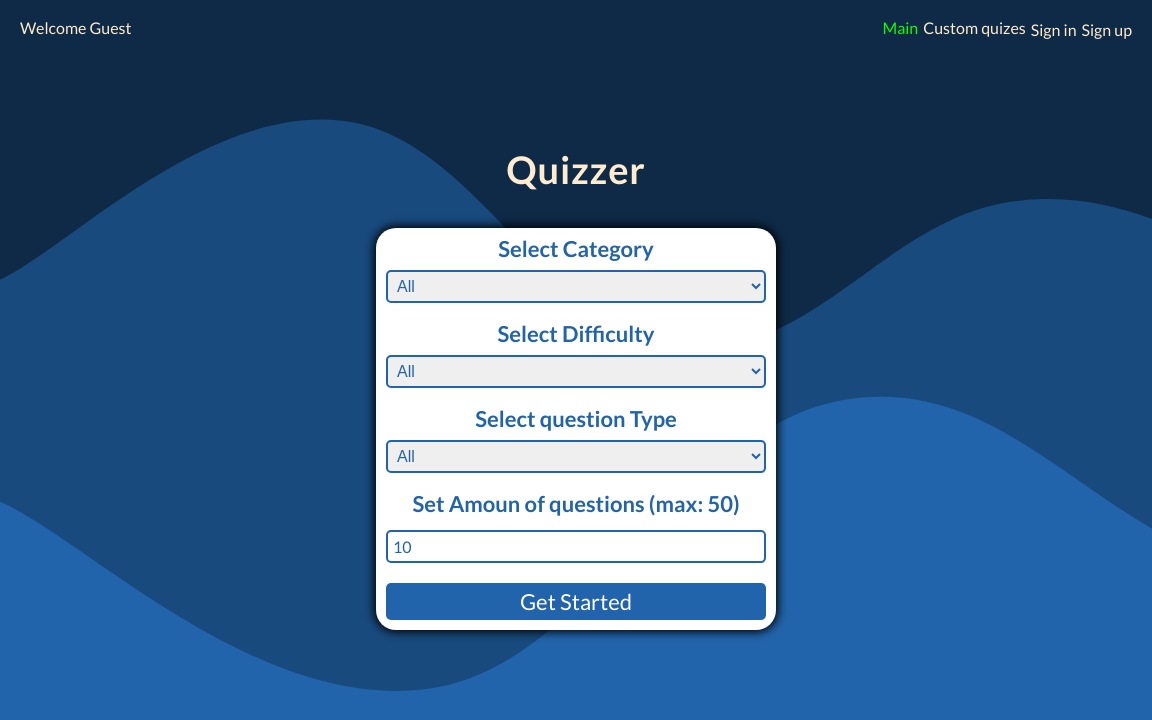
Scenario: NavBar tests › shoul open sign up modal
Click the button with test id "signup-link".
click(1107, 30)  # box x1=1082 y1=20 x2=1132 y2=39
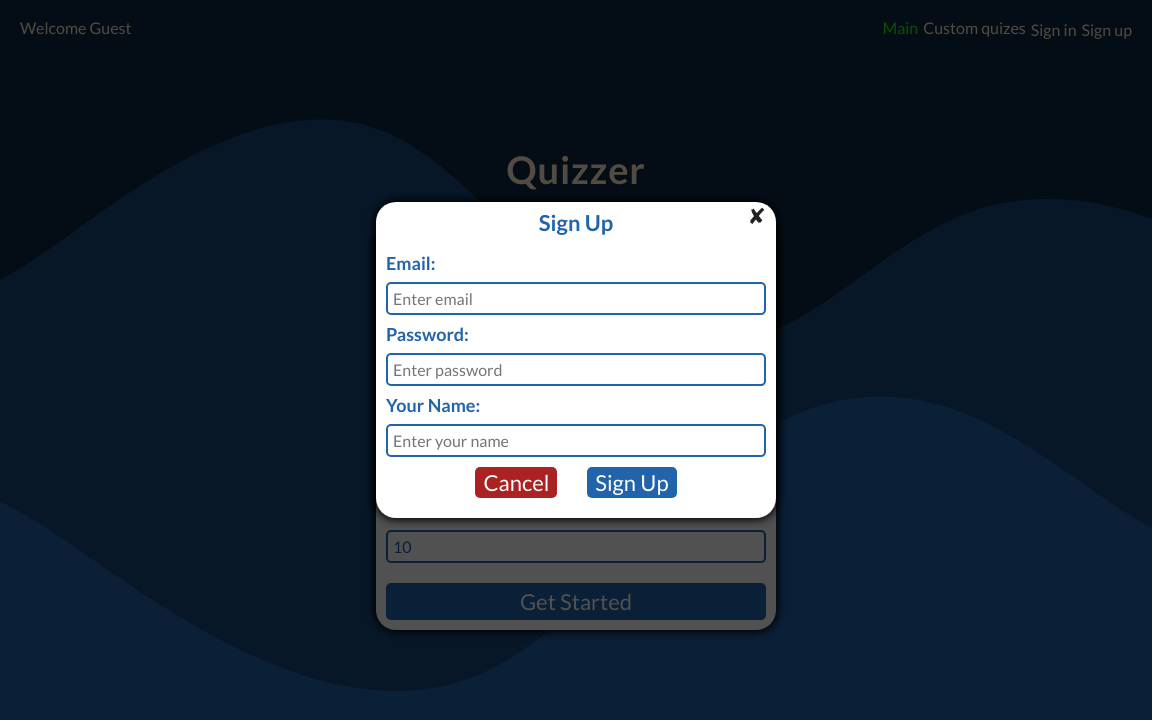
Check: the form with test id "sign-up-modal" is shown, box x1=386 y1=254 x2=766 y2=498
